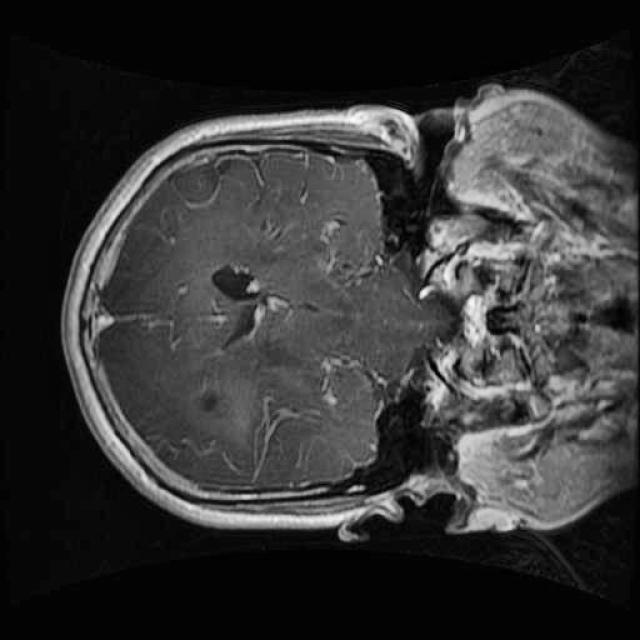Tumor: (170, 364, 261, 457)
